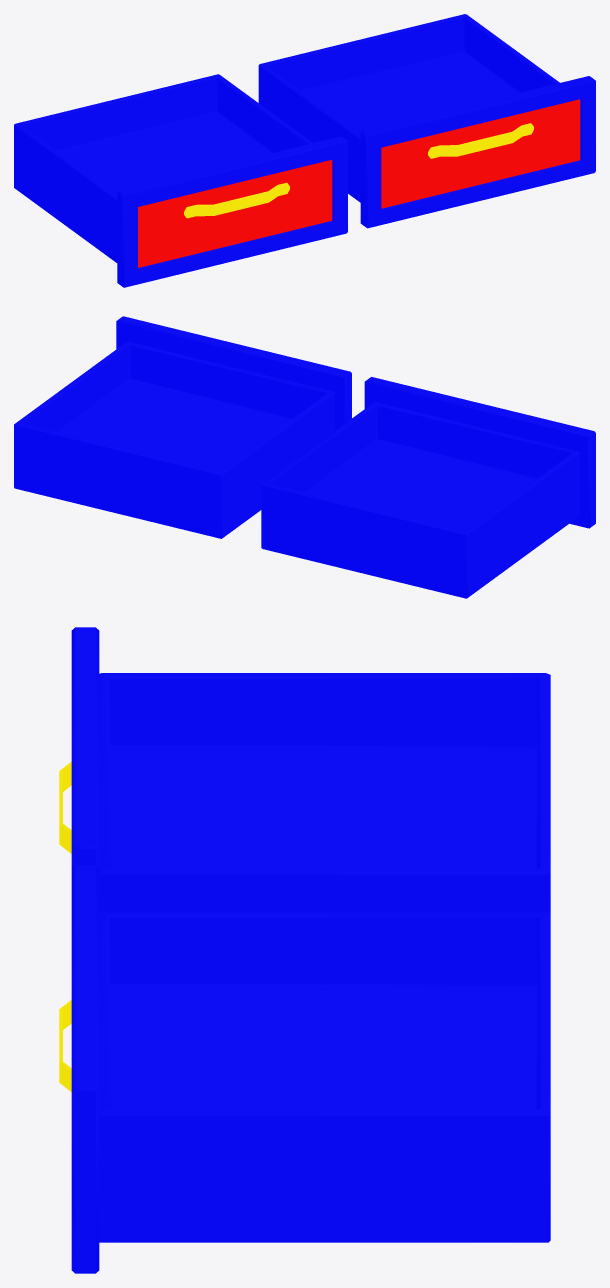
File: K_Schubladen2.fbx
The picture shows the model from 3 angles, top to bottom: view 1: azimuth 30°, elevation 25°; view 2: azimuth 150°, elevation 25°; view 3: azimuth 270°, elevation 25°; orthographic projection. The views are drawn at different scales.
Visible parts, largest first — view 1: Schubladen2; view 2: Schubladen2; view 3: Schubladen2.
Boxes of the visible parts, box(x1,y1,x2,y2) form: Schubladen2: box(14, 14, 595, 287); Schubladen2: box(14, 316, 595, 598); Schubladen2: box(59, 627, 550, 1273).
Size of the model in its own units: 79.63 by 15.02 by 35.76.
